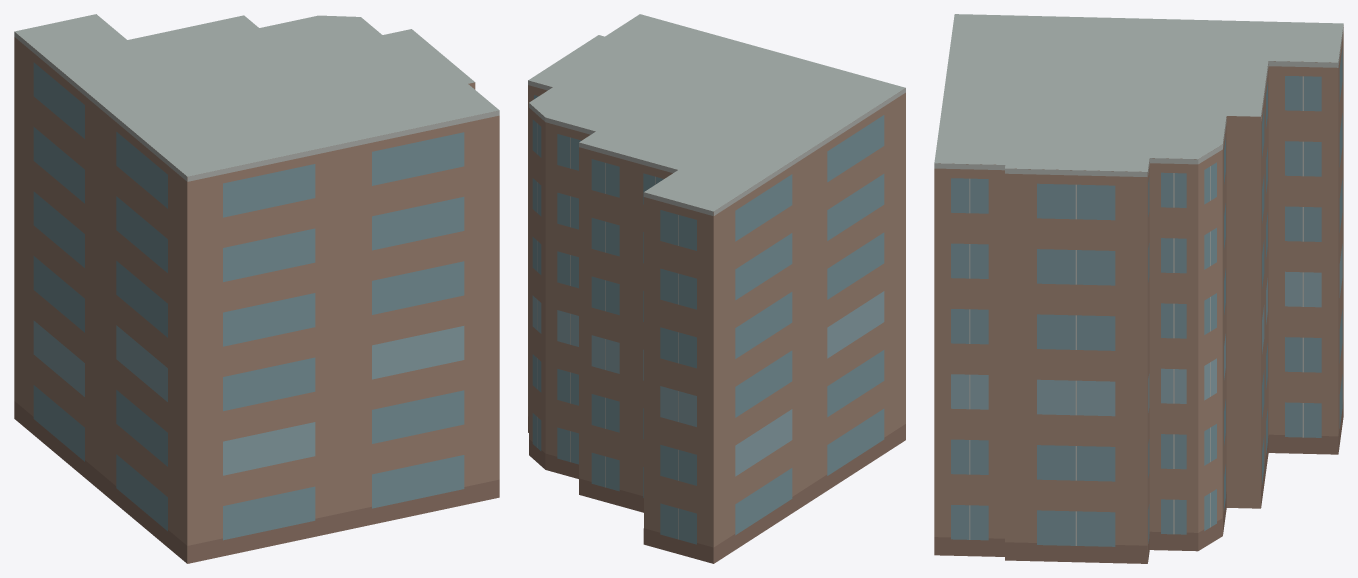
Rendered from survey-upis-32665476.glb.
3 views of the same model, side by side, from view 1: azimuth 30°, elevation 25°; view 2: azimuth 150°, elevation 25°; view 3: azimuth 270°, elevation 25° (orthographic). The views are drawn at different scales.
Parts seen in each view (by area): view 1: survey-upis-32665476.tmp; view 2: survey-upis-32665476.tmp; view 3: survey-upis-32665476.tmp.
Boxes of the visible parts, <box> form: survey-upis-32665476.tmp: <box>14,14,499,563</box>; survey-upis-32665476.tmp: <box>528,14,905,563</box>; survey-upis-32665476.tmp: <box>934,14,1343,563</box>.
Bounding box in the file's own units: 15.82 × 18.3 × 17.33.
